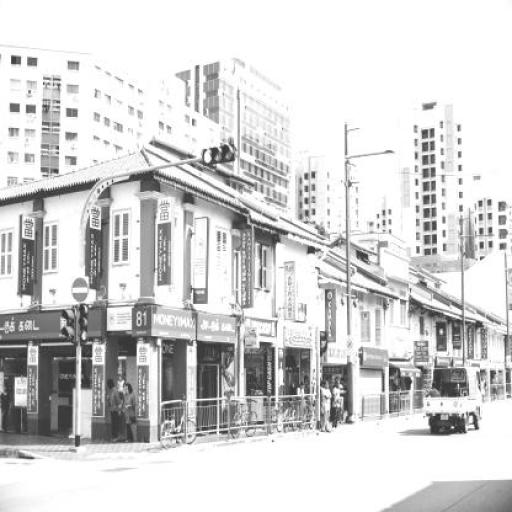street light: (343, 138, 396, 423), (459, 233, 495, 393)
